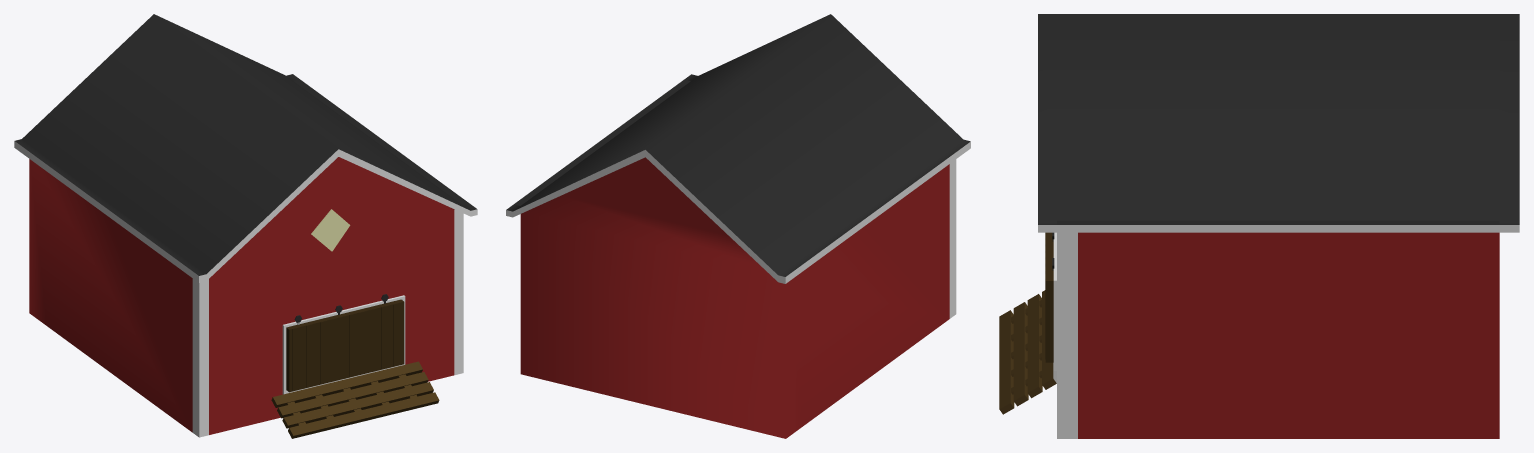
File: Barn.fbx
3 renders of one model, left to right at view 1: azimuth 30°, elevation 25°; view 2: azimuth 150°, elevation 25°; view 3: azimuth 270°, elevation 25°, orthographic. The views are drawn at different scales.
Visible parts, largest first — view 1: Barn, Door; view 2: Barn; view 3: Barn, Door.
Boxes of the visible parts, x1,y1,x2,y2 form: Barn: [14, 14, 477, 438]; Door: [286, 294, 404, 392]; Barn: [506, 14, 970, 438]; Barn: [999, 14, 1519, 438]; Door: [1045, 232, 1054, 362].
Size of the model in its own units: 400 by 365 by 497.
